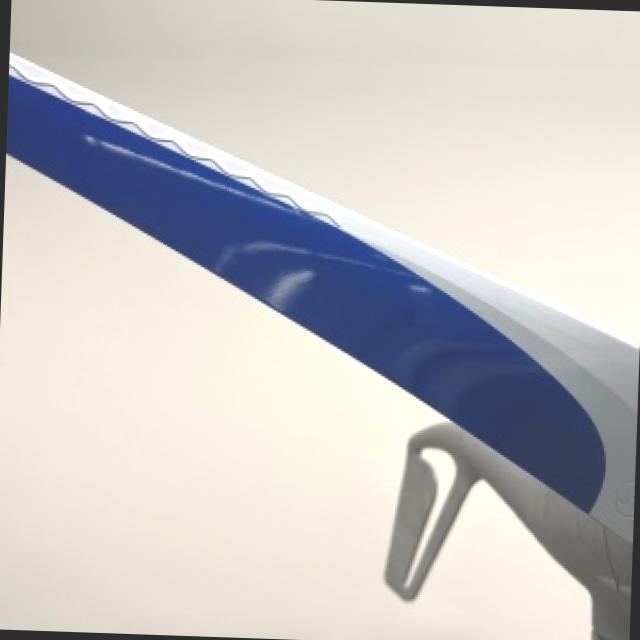healthy: (0, 153, 589, 640)
